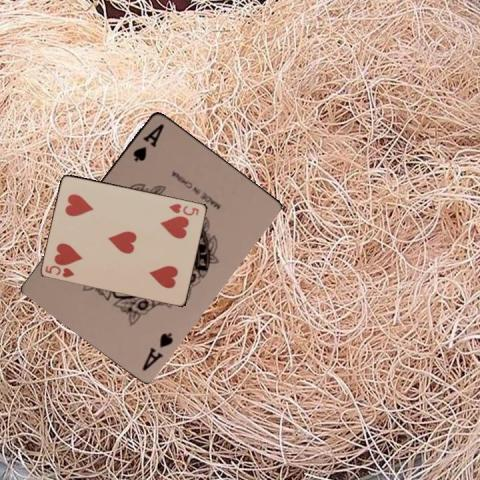5h: (42, 262, 76, 279), (166, 200, 201, 216)
As: (129, 120, 166, 163), (139, 329, 175, 372)
